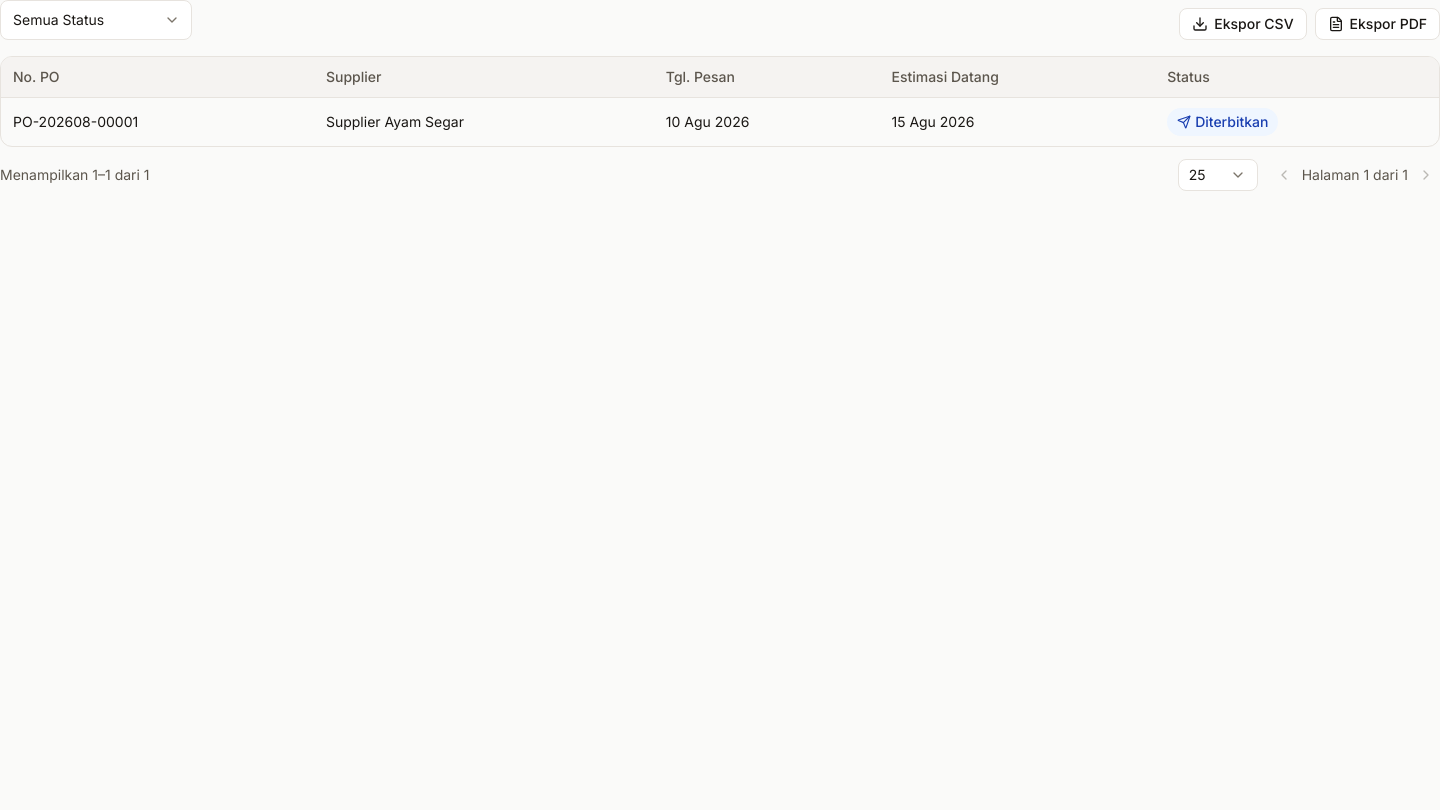
Test case: PurchaseOrdersPanel — status ladder + D-20 price lock › a null payment summary (e.g. the kepala_gudang RLS gap) renders as "unavailable", never a crash or a misleading unpaid badge
The width and height of the screenshot is (1440, 810).
Click the text "PO-202608-00001". click: [76, 122]
box: [1, 98, 314, 146]
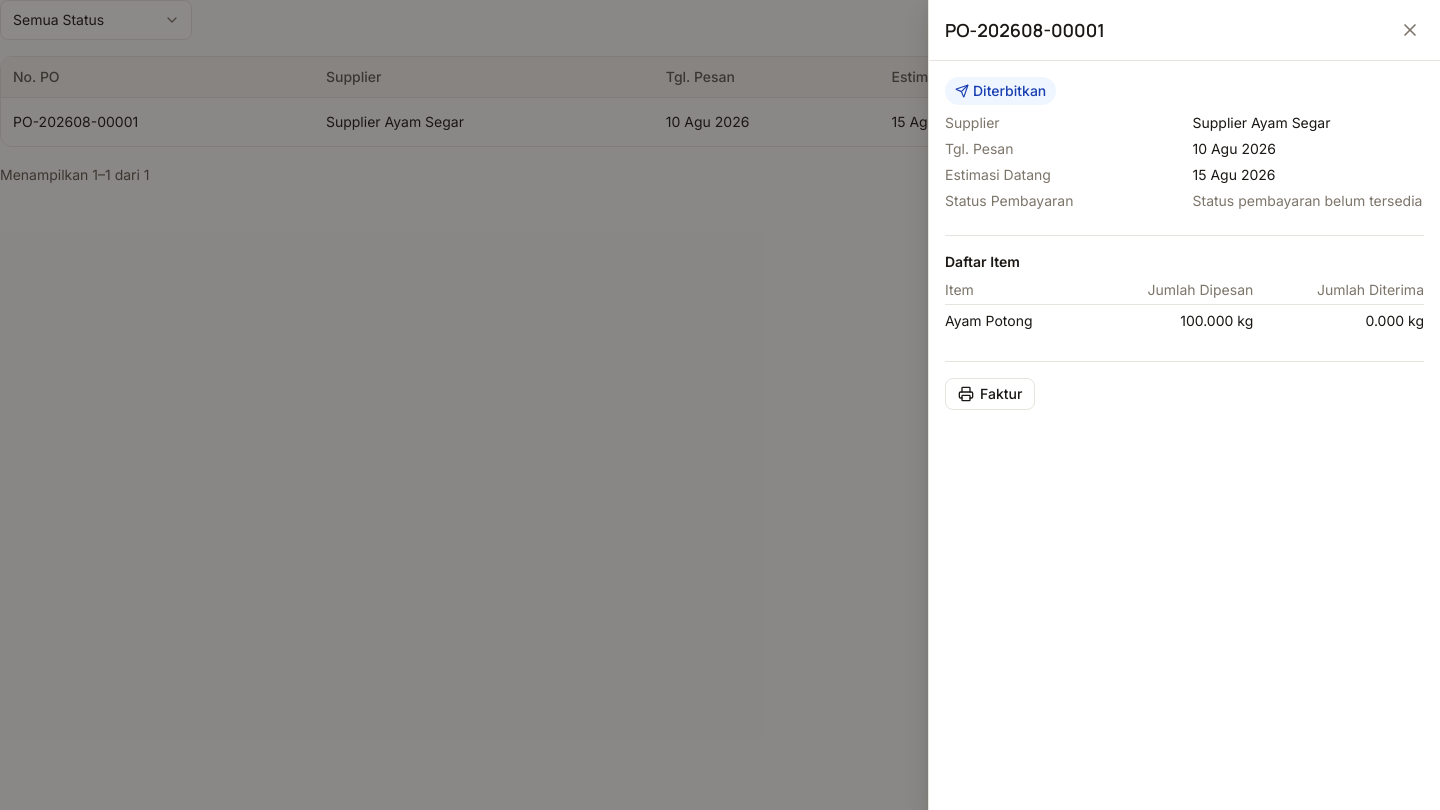
Expected: the text "Status pembayaran belum tersedia" is shown, [1192, 192, 1422, 209]
